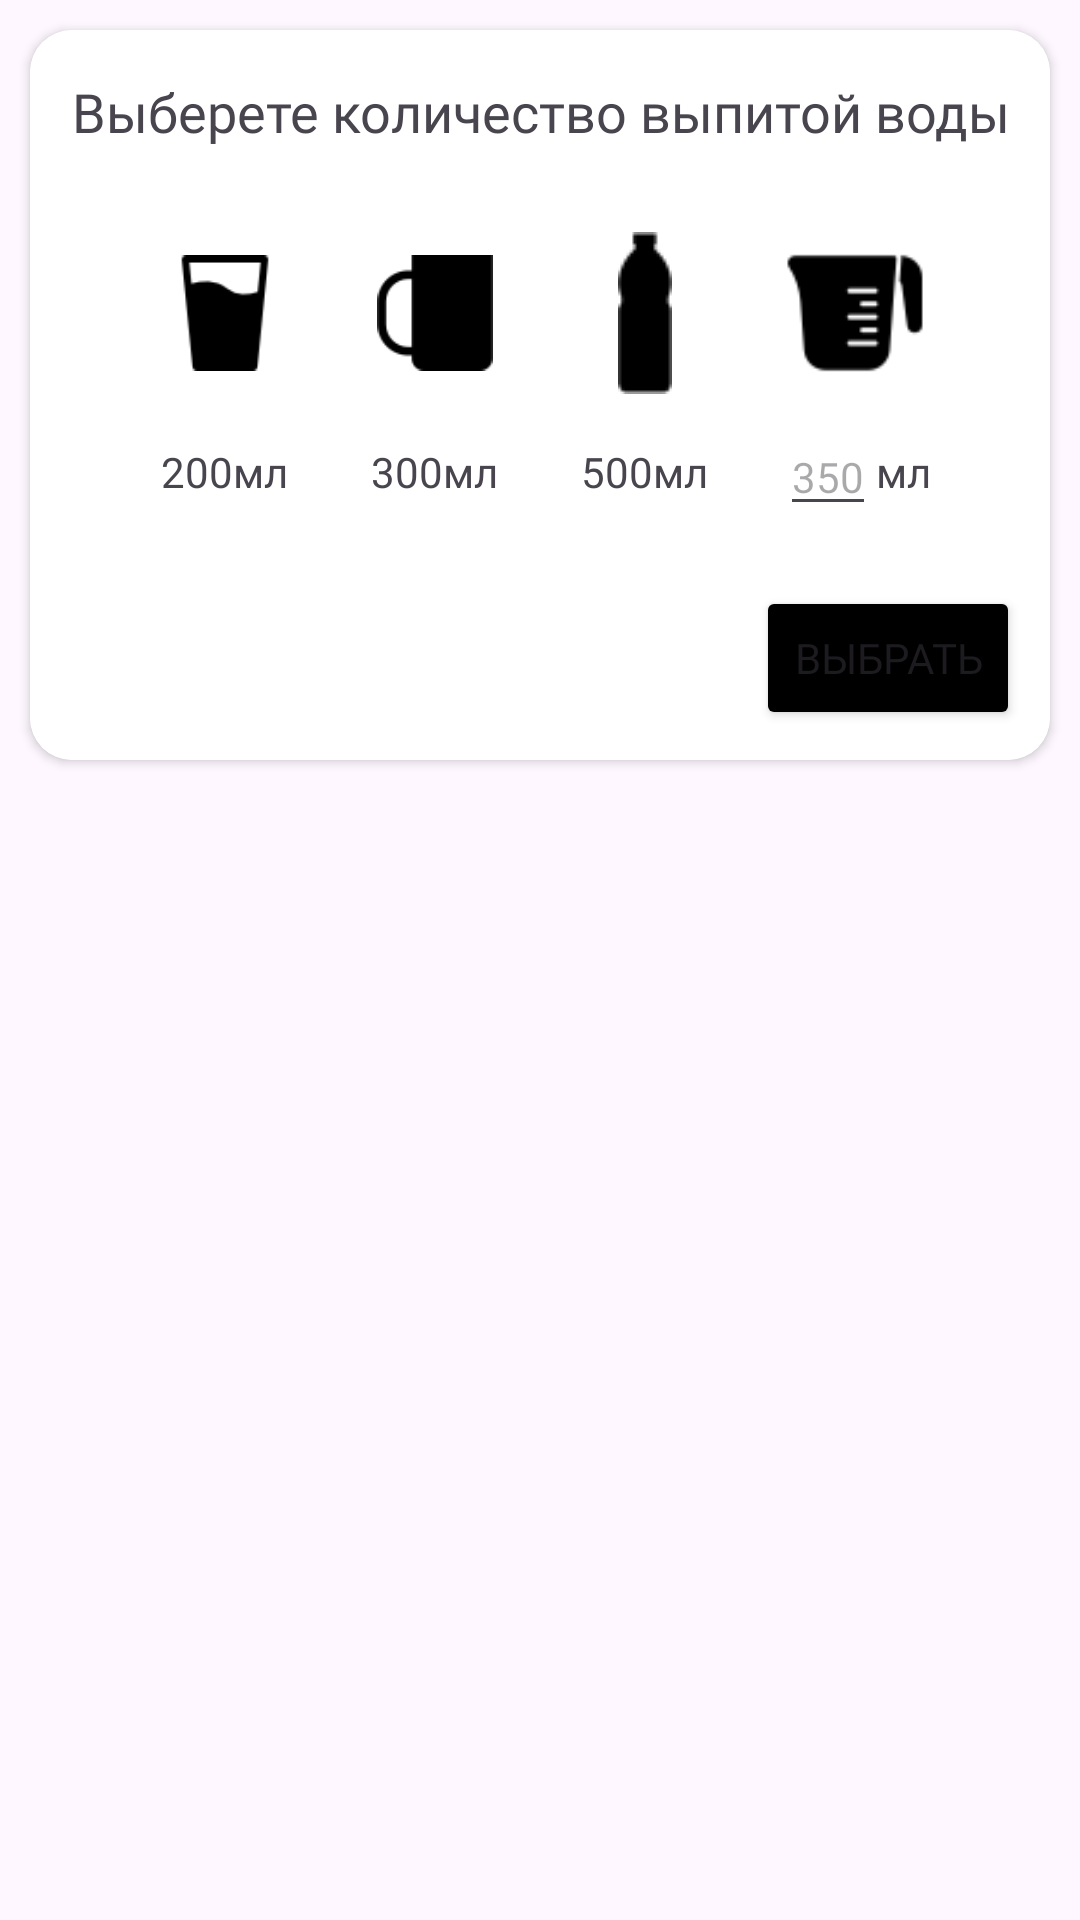

Screen size 1080*1920. Icon name, then its box in pixels as (x1, y1, x2, y2):
bottle: (618, 232, 672, 394)
